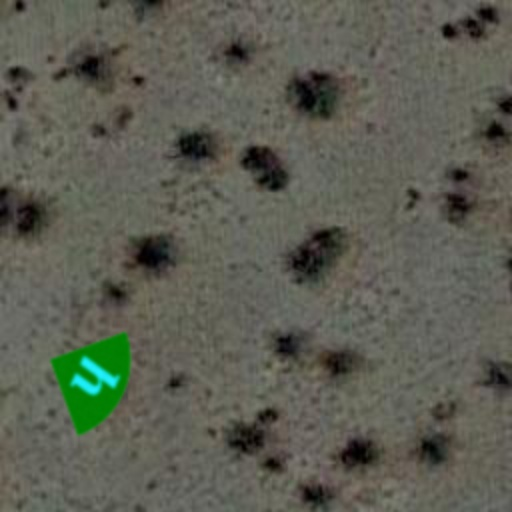quarter_circle: (20, 306, 168, 454)
